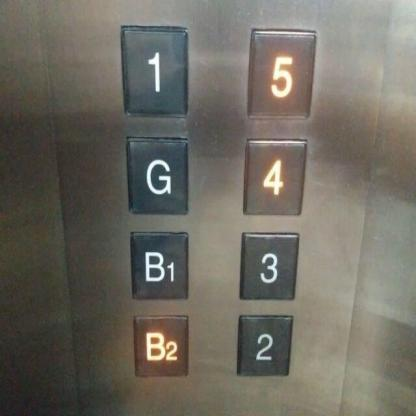1: (117, 22, 190, 120)
2: (234, 310, 295, 380)
3: (236, 226, 300, 304)
4: (240, 132, 309, 218)
5: (244, 24, 318, 122)
B1: (126, 228, 190, 302)
B2: (130, 310, 191, 380)
G: (122, 131, 190, 218)
